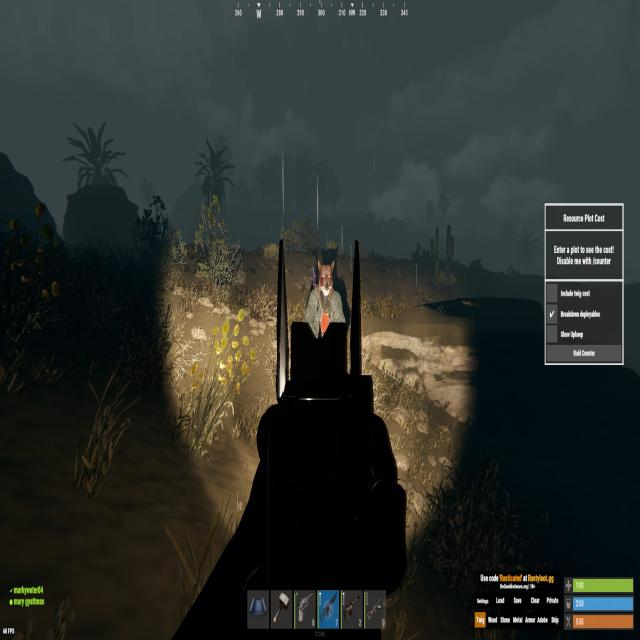Player: (300, 250, 349, 344)
